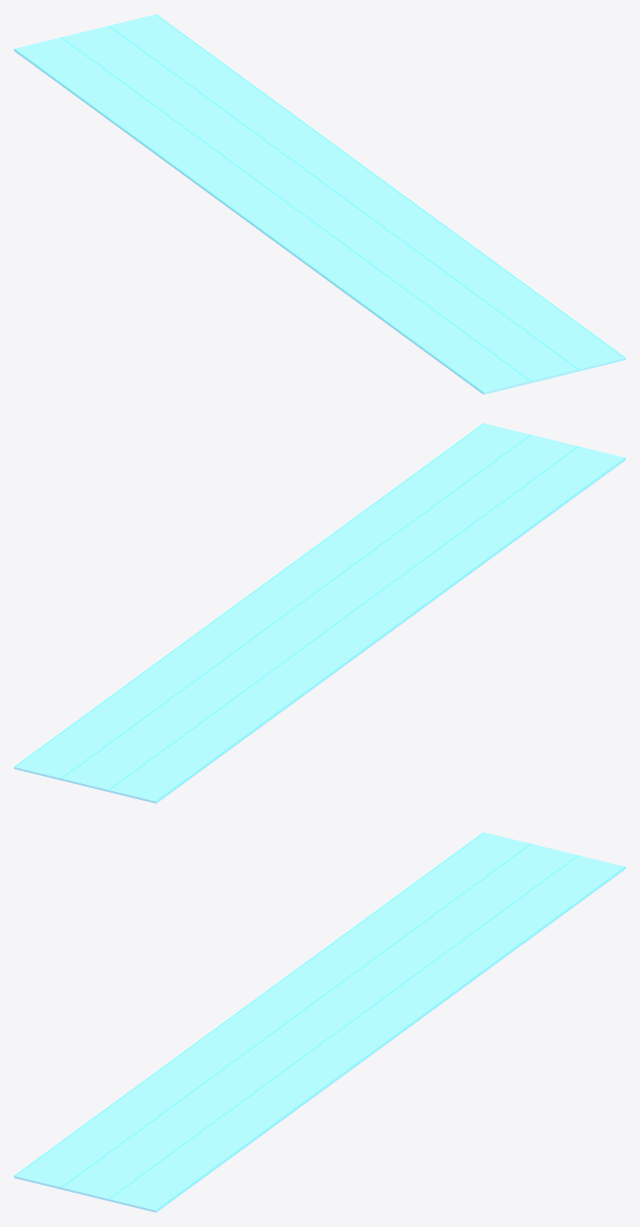
Rendered from blue-glass-v1.glb.
3 renders of one model, top to bottom at view 1: azimuth 30°, elevation 25°; view 2: azimuth 150°, elevation 25°; view 3: azimuth 330°, elevation 25°, orthographic.
Visible parts, largest first — view 1: track/blue-glass-v1; view 2: track/blue-glass-v1; view 3: track/blue-glass-v1.
Boxes of the visible parts, x1,y1,x2,y2 form: track/blue-glass-v1: (14,14,625,394); track/blue-glass-v1: (14,423,625,803); track/blue-glass-v1: (14,832,625,1212).
Size of the model in its own units: 4.2 by 0.06 by 24.
